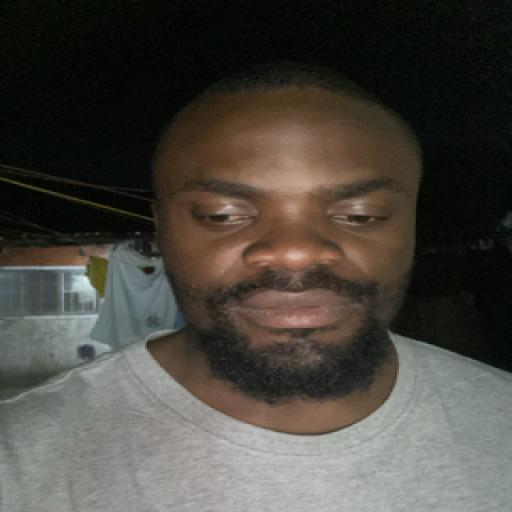JEANLUC: (115, 58, 442, 394)
